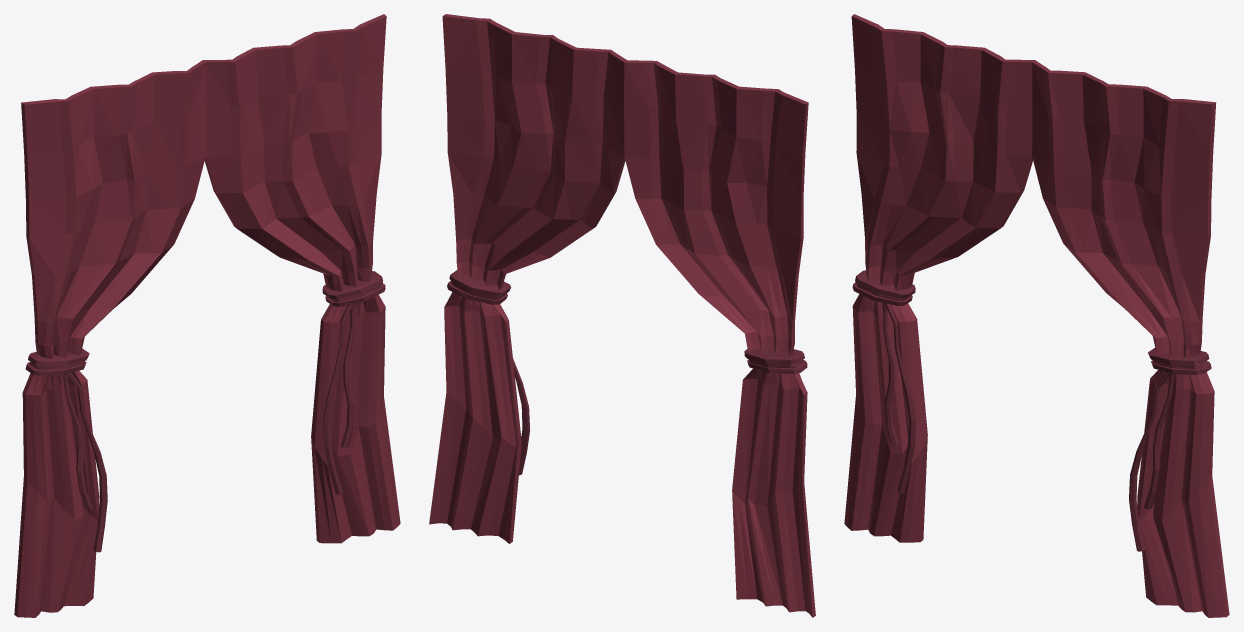
The model's file is SFHW_Curtain_M_002.fbx.
3 views of the same model, side by side, from view 1: azimuth 30°, elevation 25°; view 2: azimuth 150°, elevation 25°; view 3: azimuth 330°, elevation 25° (orthographic).
Parts seen in each view (by area): view 1: SFHW_Curtain_M_002; view 2: SFHW_Curtain_M_002; view 3: SFHW_Curtain_M_002.
Part boxes in pixels (x1=…): SFHW_Curtain_M_002: x1=14, y1=14, x2=400, y2=617; SFHW_Curtain_M_002: x1=429, y1=14, x2=815, y2=617; SFHW_Curtain_M_002: x1=844, y1=14, x2=1229, y2=617.
Size of the model in its own units: 452 by 576 by 46.94.
